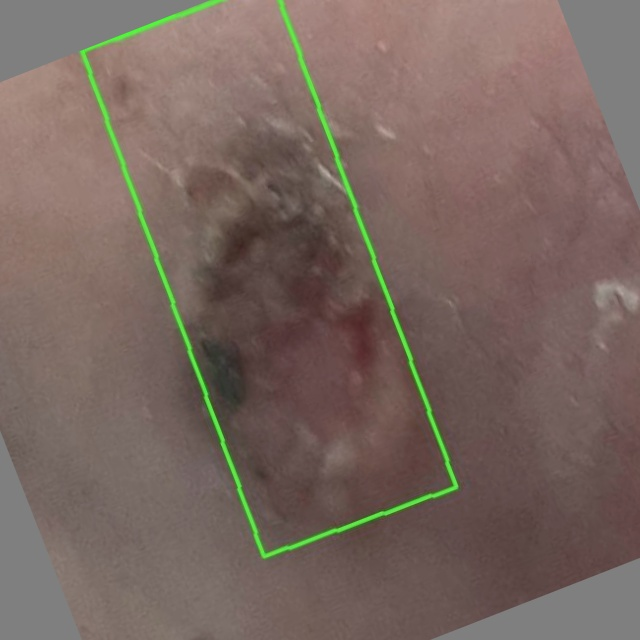Eczema: (82, 0, 456, 556)
